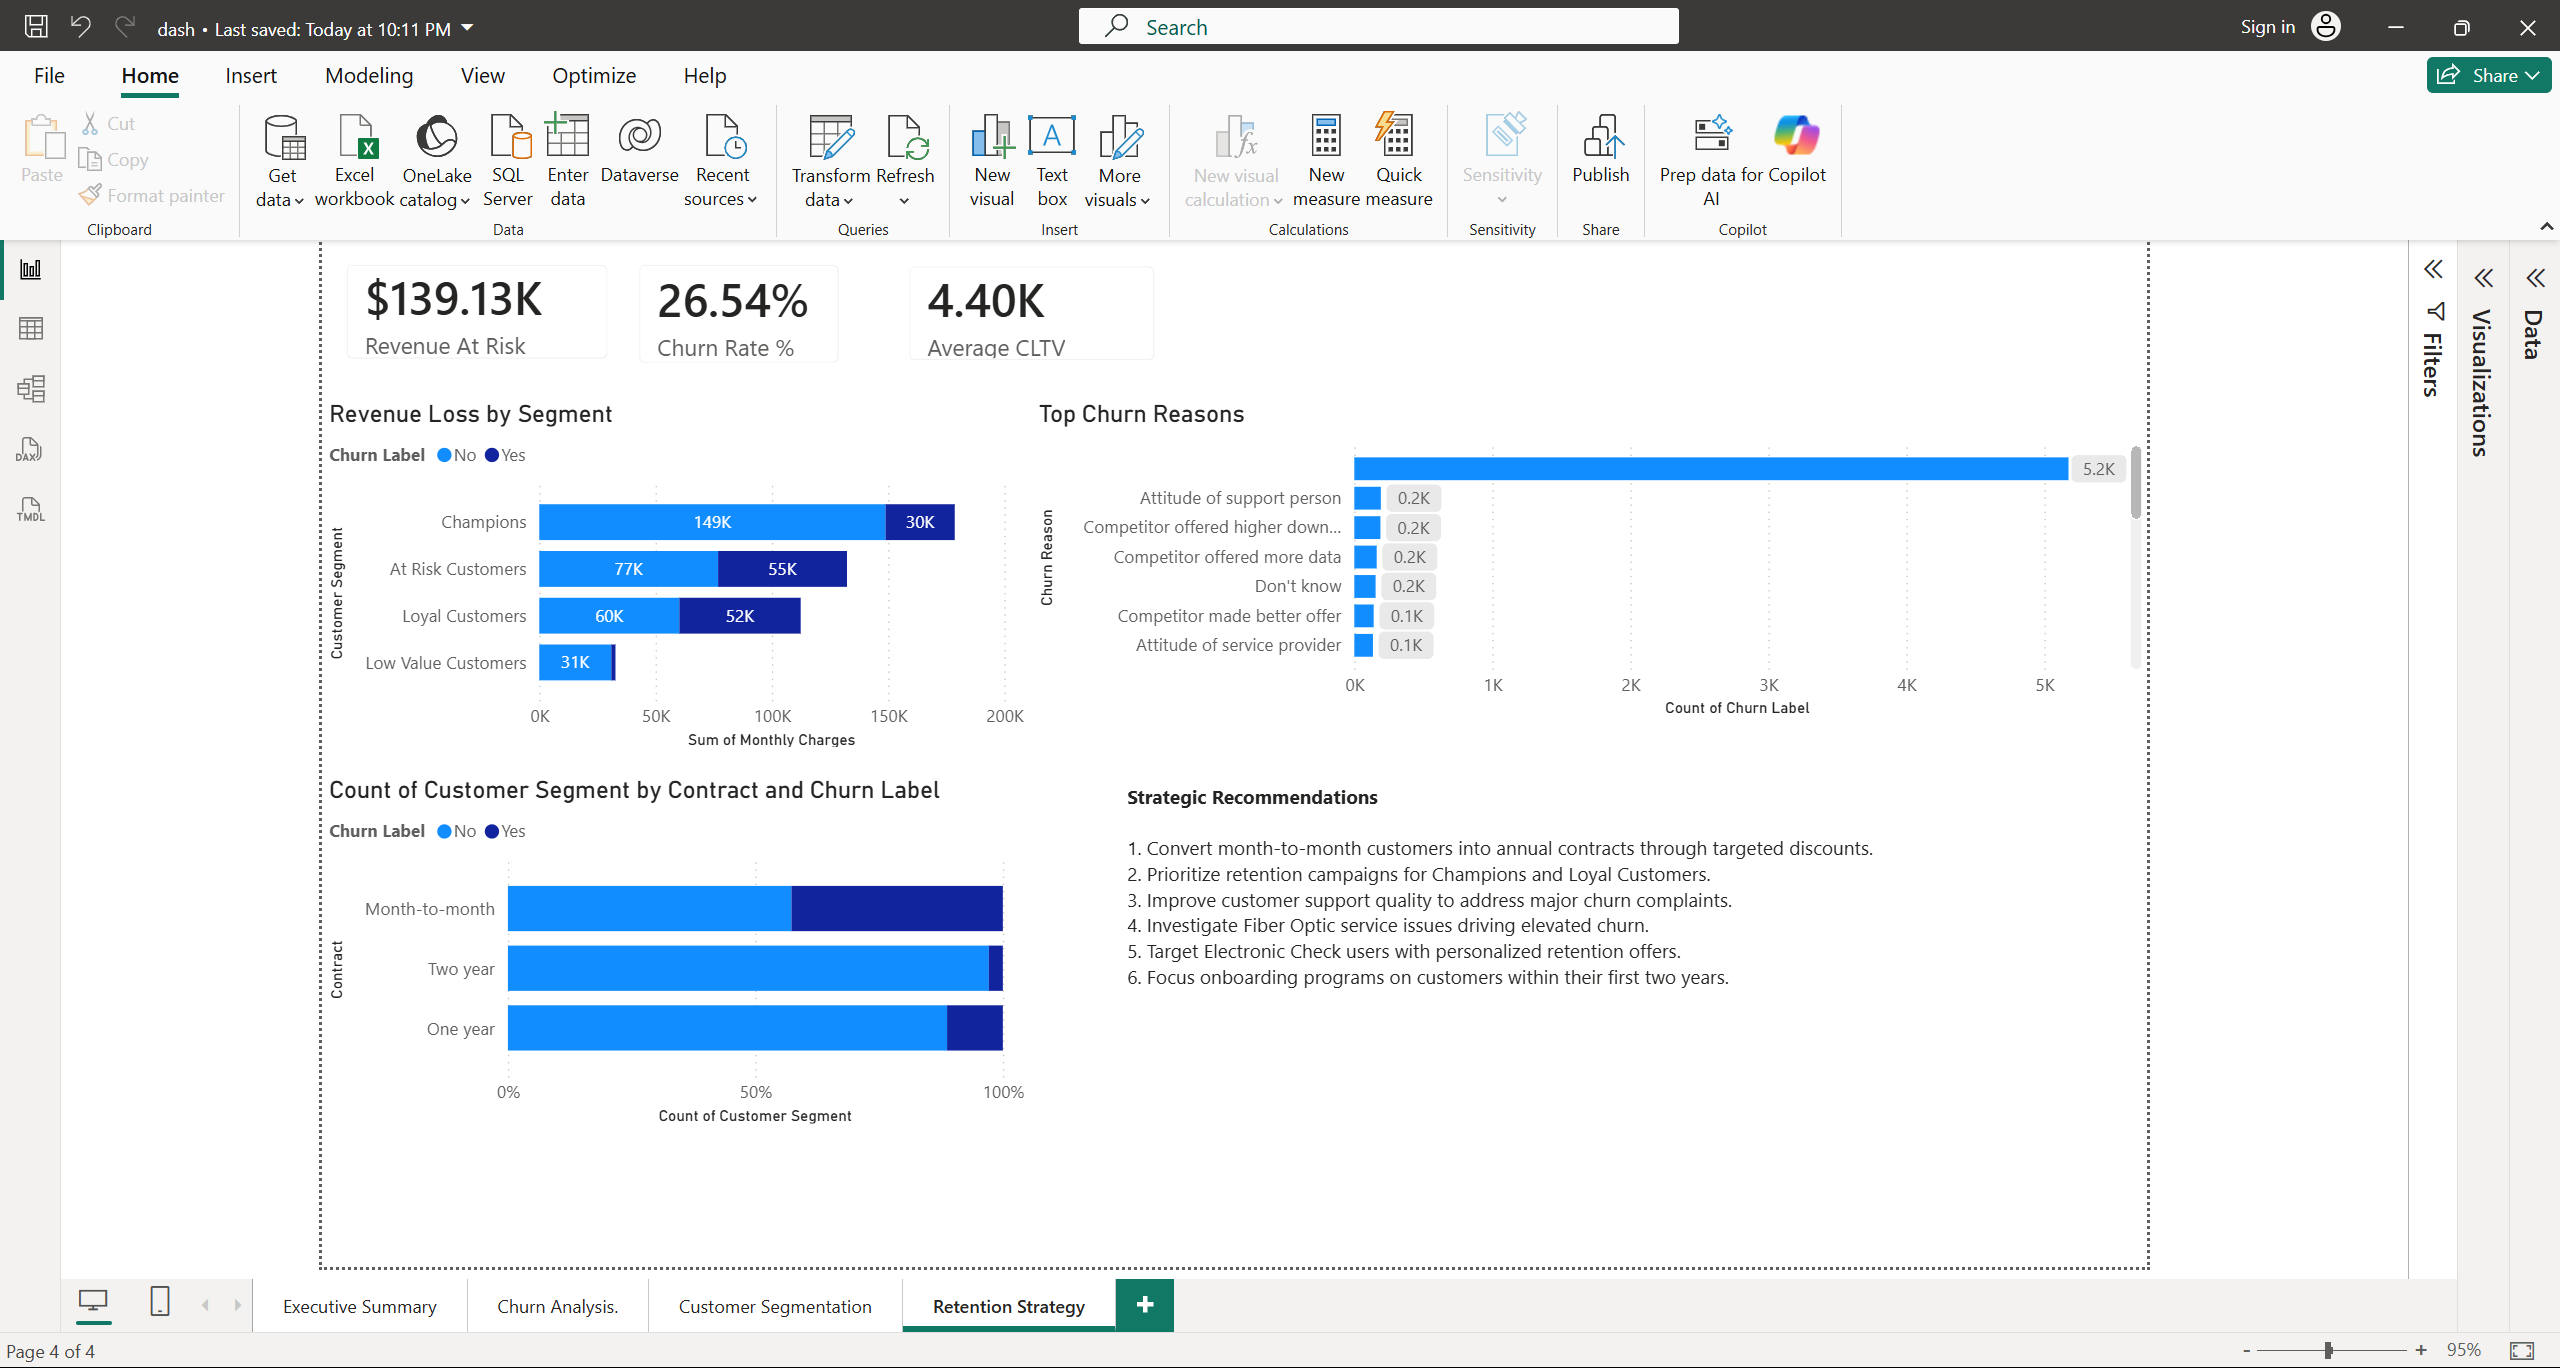

The page's visual inventory and layout, read from the dashboard file:
{"tool":"powerbi","page":{"name":"Retention Strategy","canvas":[1280,720],"ordinal":3},"visuals":[{"type":"cardVisual","fields":{"Data":["telco_segmented.Revenue At Risk"]},"box":[0,0,217.8,100.8],"z":0},{"type":"cardVisual","fields":{"Data":["telco_segmented.Churn Rate %"]},"box":[205.1,0,175,103.1],"z":1},{"type":"cardVisual","fields":{"Data":["telco_segmented.Average CLTV"]},"box":[394,1.2,206.3,100.8],"z":2},{"type":"barChart","title":"Revenue Loss by Segment","fields":{"Category":["telco_segmented.Customer Segment"],"Y":["Sum(telco_segmented.Monthly Charges)"],"Series":["telco_segmented.Churn Label"]},"box":[0,111.2,497.1,249.1],"z":3},{"type":"barChart","title":"Top Churn Reasons","fields":{"Category":["telco_segmented.Churn Reason"],"Y":["CountNonNull(telco_segmented.Churn Label)"]},"box":[497.1,111.2,783.3,227.1],"z":4},{"type":"hundredPercentStackedBarChart","fields":{"Category":["telco_segmented.Contract"],"Series":["telco_segmented.Churn Label"],"Y":["CountNonNull(telco_segmented.Customer Segment)"]},"box":[0,375.5,497,249],"z":5},{"type":"textbox","box":[559.7,375.4,720.7,249.1],"z":6}]}

Visuals, with their boxes on the page's 1280x720 design canvas (x1, y1, x2, y2). These are canvas units, not pixel positions in the 2560x1368 screenshot, which may show the page scaled, cropped or inside an application window:
cardVisual - telco_segmented.Revenue At Risk: <region>0, 0, 218, 101</region>
cardVisual - telco_segmented.Churn Rate %: <region>205, 0, 380, 103</region>
cardVisual - telco_segmented.Average CLTV: <region>394, 1, 600, 102</region>
"Revenue Loss by Segment" barChart: <region>0, 111, 497, 360</region>
"Top Churn Reasons" barChart: <region>497, 111, 1280, 338</region>
hundredPercentStackedBarChart - telco_segmented.Contract x telco_segmented.Churn Label: <region>0, 376, 497, 624</region>
textbox: <region>560, 375, 1280, 624</region>
